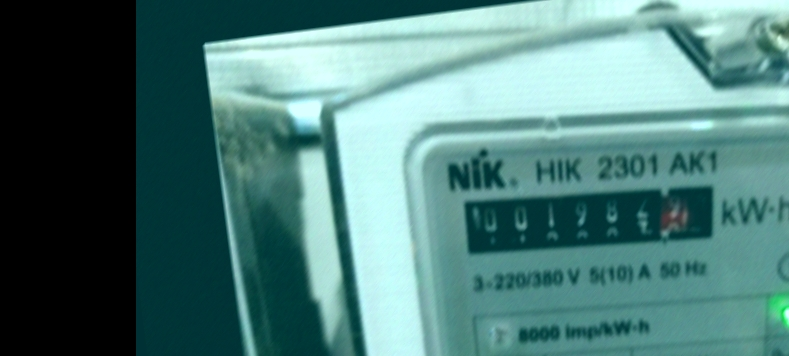0: (511, 199, 532, 230), (481, 200, 501, 231)
1: (543, 196, 559, 226)
2: (633, 187, 654, 218)
8: (603, 192, 622, 222)
9: (664, 188, 687, 219), (572, 195, 591, 226)
screen: (445, 151, 736, 282)
